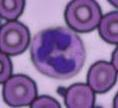N: (30, 26, 86, 78)
